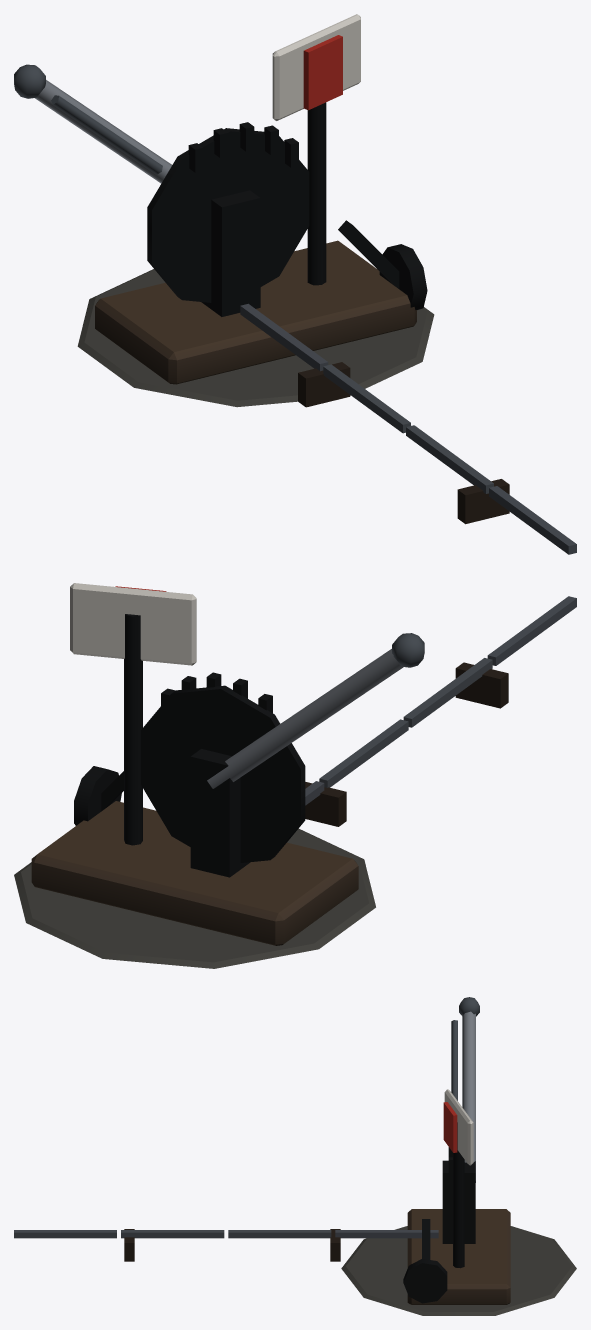
Rendered from point-ground-frame.glb.
3 renders of one model, top to bottom at view 1: azimuth 30°, elevation 25°; view 2: azimuth 150°, elevation 25°; view 3: azimuth 270°, elevation 25°, orthographic. The views are drawn at different scales.
Visible parts, largest first — view 1: point_ground_frame; view 2: point_ground_frame; view 3: point_ground_frame.
Part boxes in pixels (<box>): point_ground_frame: <box>14,14,576,554</box>; point_ground_frame: <box>14,583,576,968</box>; point_ground_frame: <box>14,997,576,1315</box>.
Bounding box in the file's own units: 1.39 × 1.08 × 2.73.
